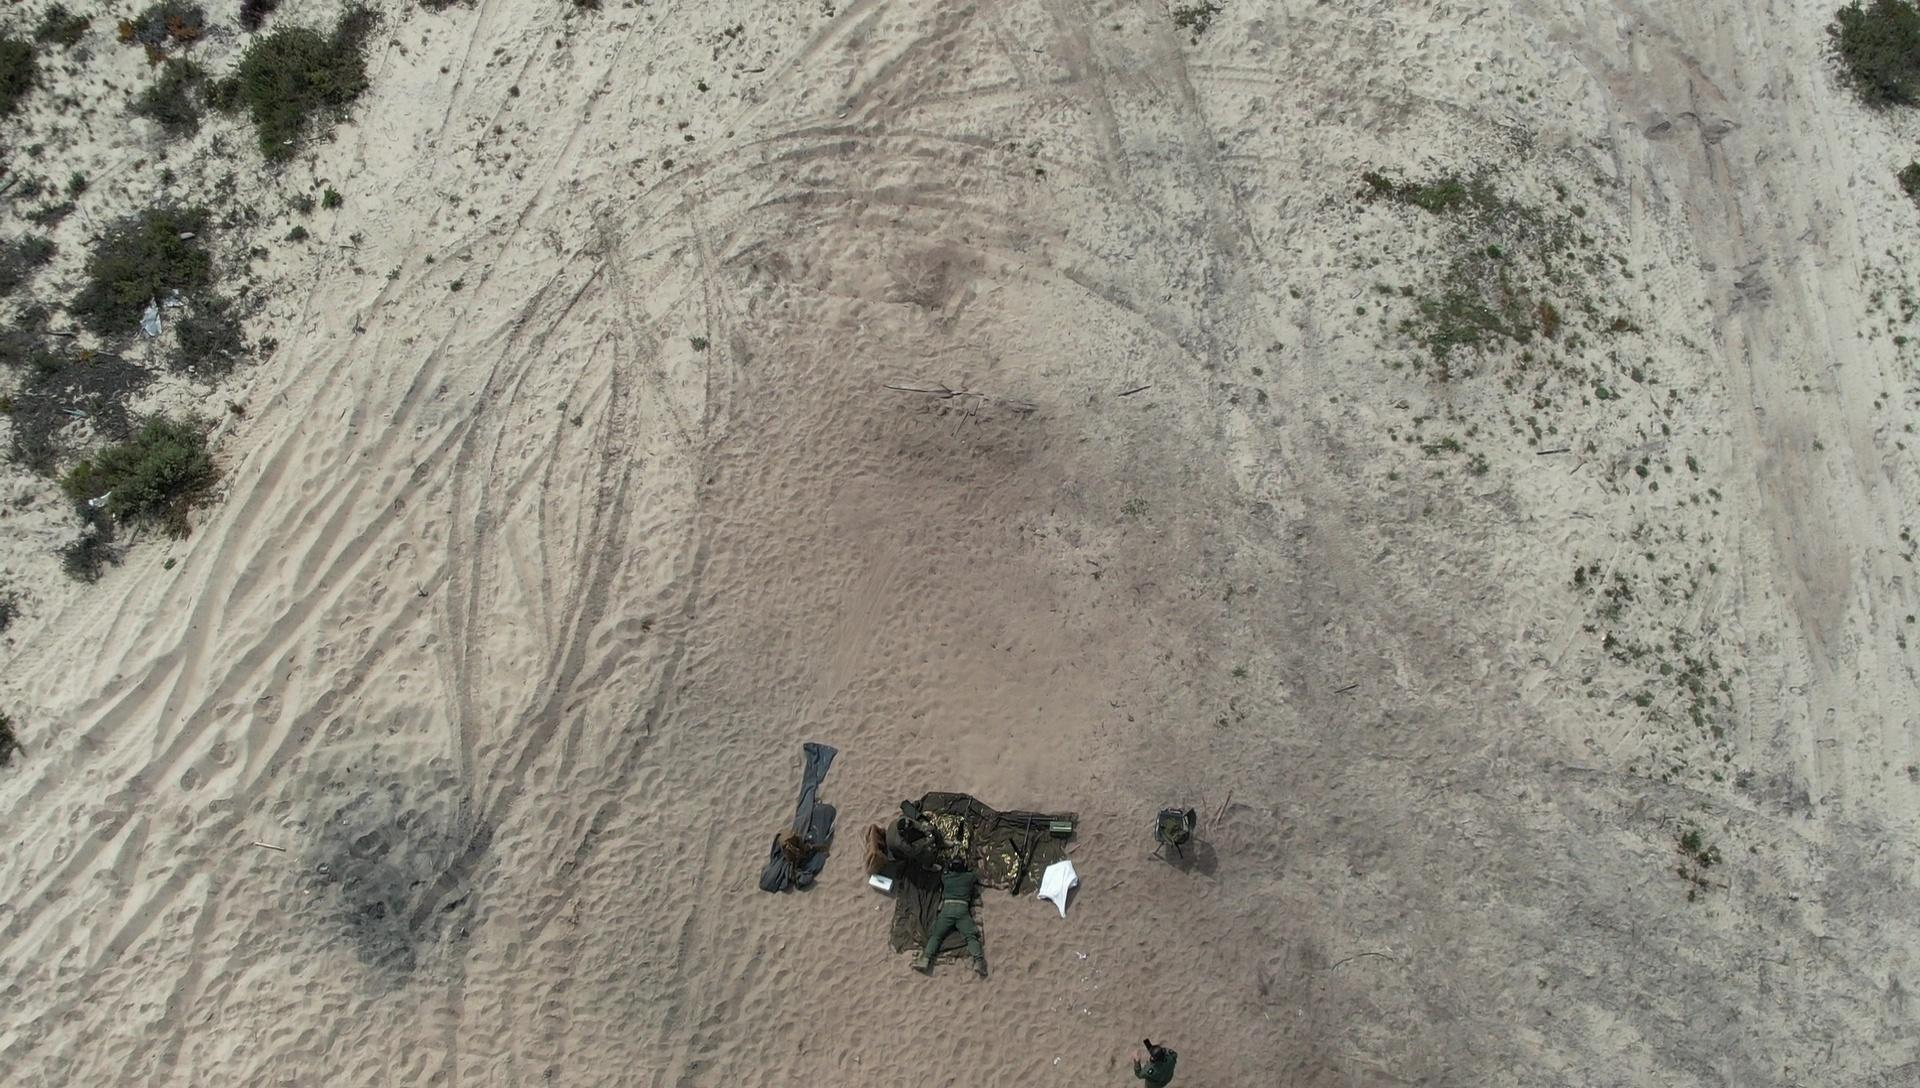Soldier: (903, 859, 1000, 994), (1129, 1026, 1195, 1088), (874, 815, 935, 877)
